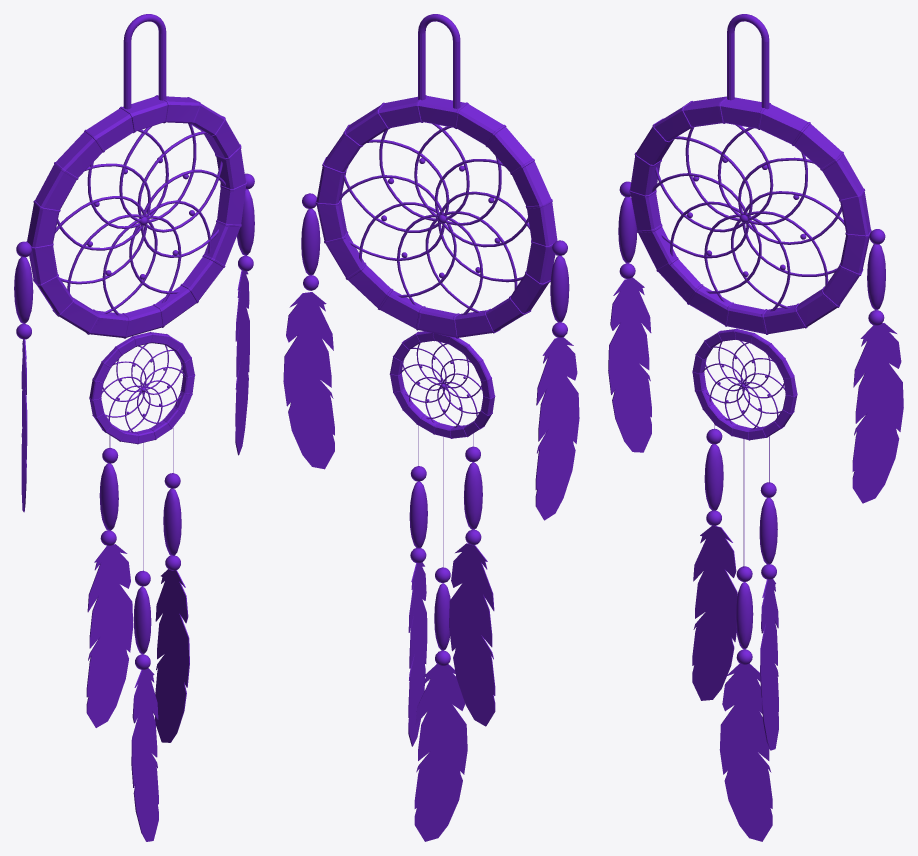
The model's file is DreamCatcher.FBX.
The picture shows the model from 3 angles, left to right: view 1: azimuth 30°, elevation 25°; view 2: azimuth 150°, elevation 25°; view 3: azimuth 330°, elevation 25°; orthographic projection.
Visible parts, largest first — view 1: Cylinder001; view 2: Cylinder001; view 3: Cylinder001.
Part boxes in pixels (left/top/right/bottom): Cylinder001: left=14, top=14, right=254, bottom=841; Cylinder001: left=283, top=14, right=579, bottom=841; Cylinder001: left=608, top=14, right=903, bottom=841.
Size of the model in its own units: 12.4 by 37.77 by 3.48.
